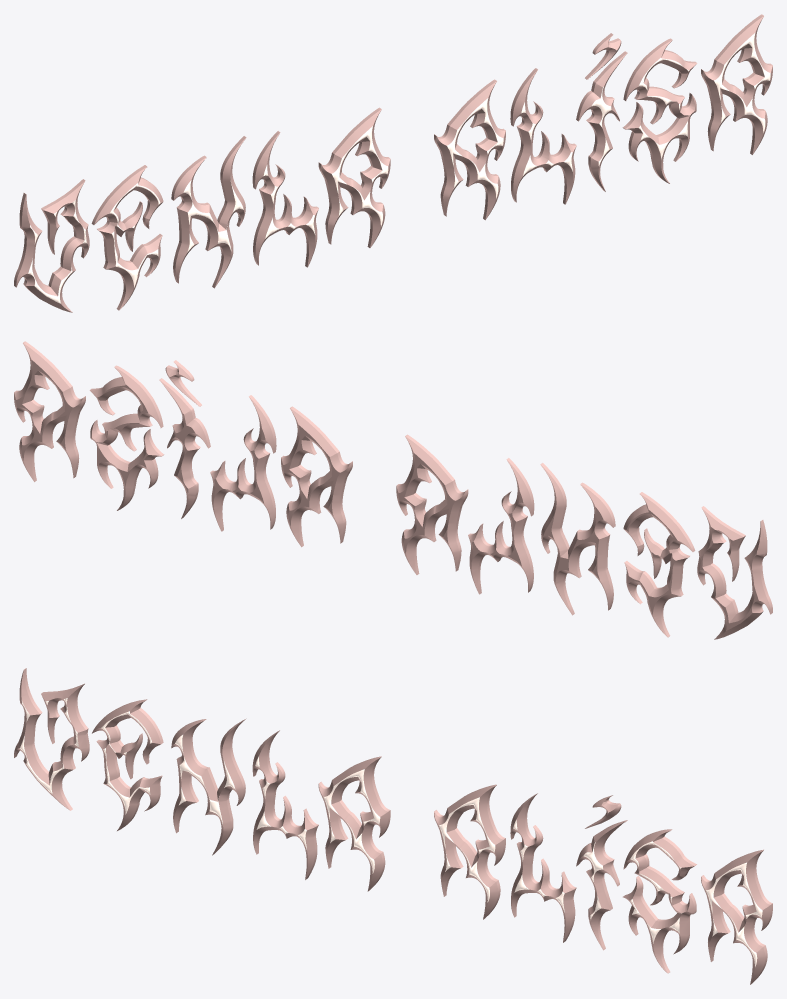
Rendered from 3davgr.glb.
3 renders of one model, top to bottom at view 1: azimuth 30°, elevation 25°; view 2: azimuth 150°, elevation 25°; view 3: azimuth 330°, elevation 25°, orthographic.
Visible parts, largest first — view 1: venla Alisa; view 2: venla Alisa; view 3: venla Alisa.
Boxes of the visible parts, x1,y1,x2,y2 form: venla Alisa: [14, 14, 772, 312]; venla Alisa: [14, 341, 772, 639]; venla Alisa: [14, 668, 772, 984].
Size of the model in its own units: 0.9153 by 0.1887 by 0.0197.
Materials: 5 (1 with a texture image).
